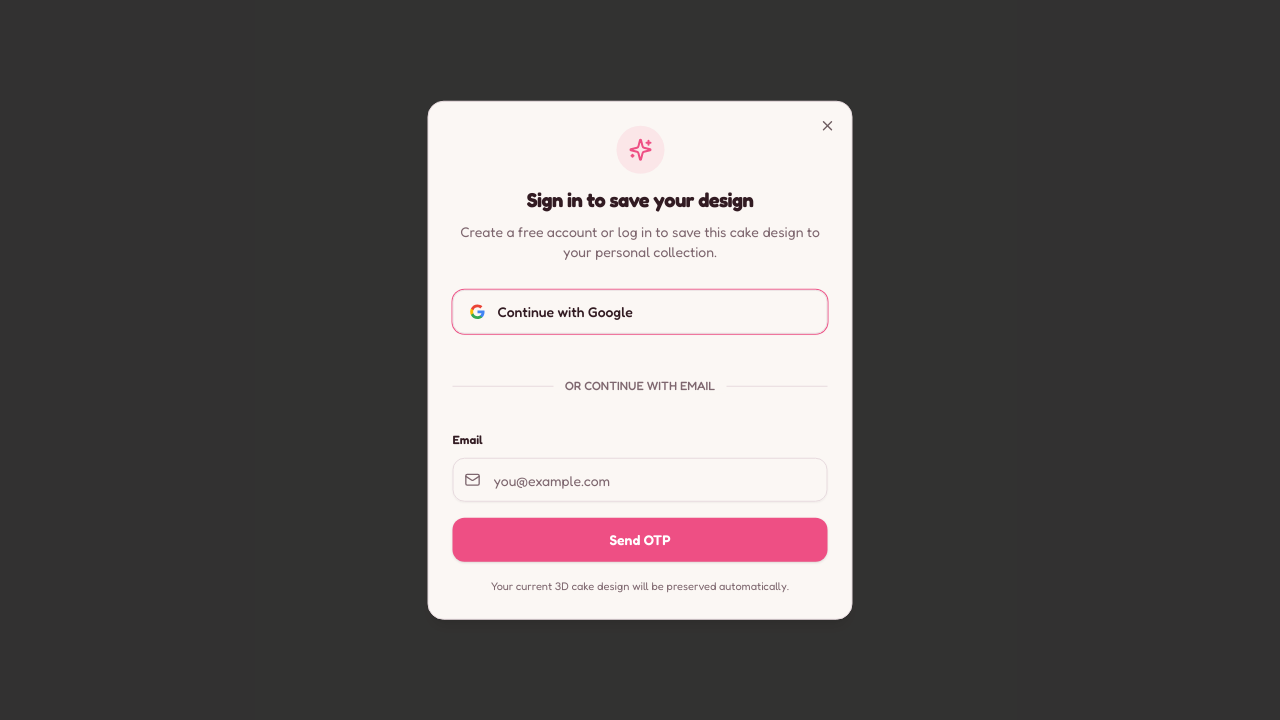
Scenario: GuestAuthModal › displays friendly message when Google redirect fails in GuestAuthModal
Click the button "Continue with Google". click: (565, 311)
box: x1=452 y1=290 x2=828 y2=334
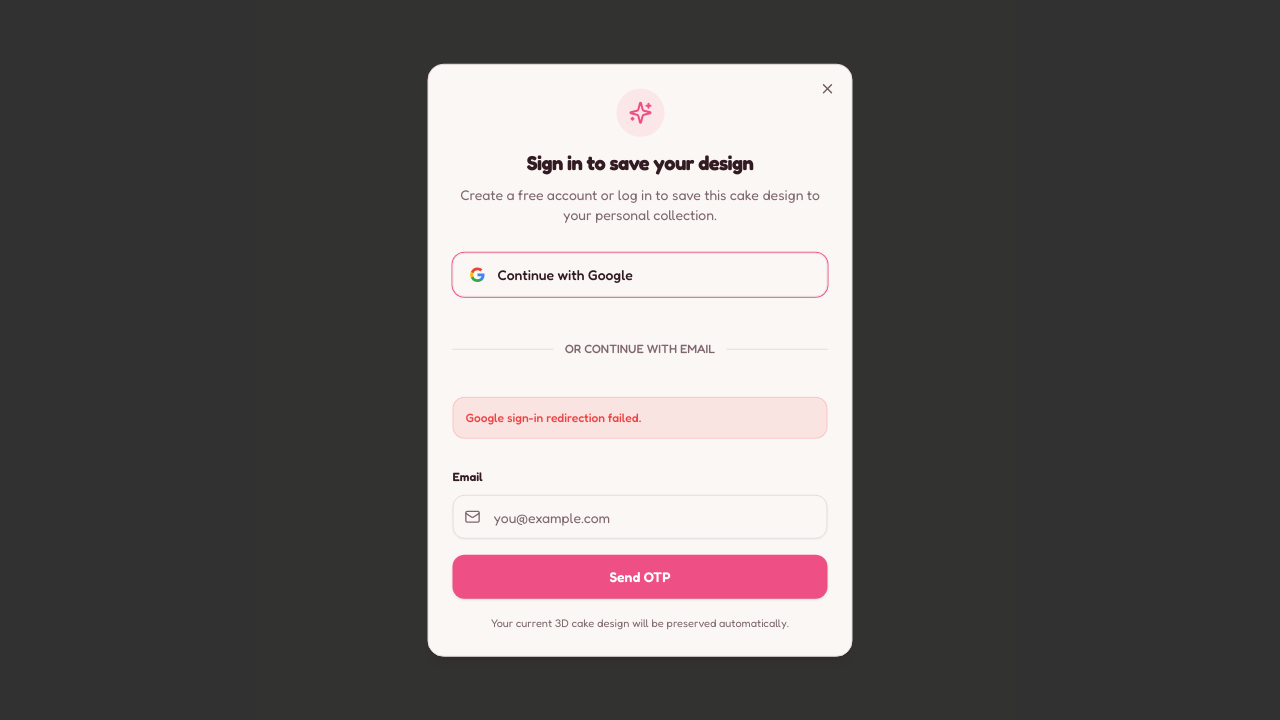
Expected: the message reads "Google sign-in redirection failed.", x1=466 y1=410 x2=641 y2=425
